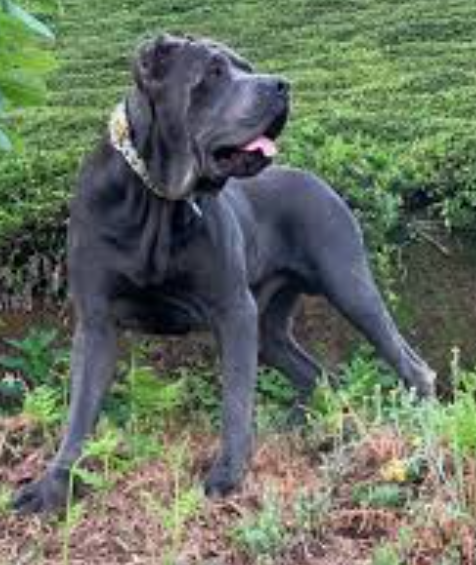dog: (1, 34, 418, 521)
